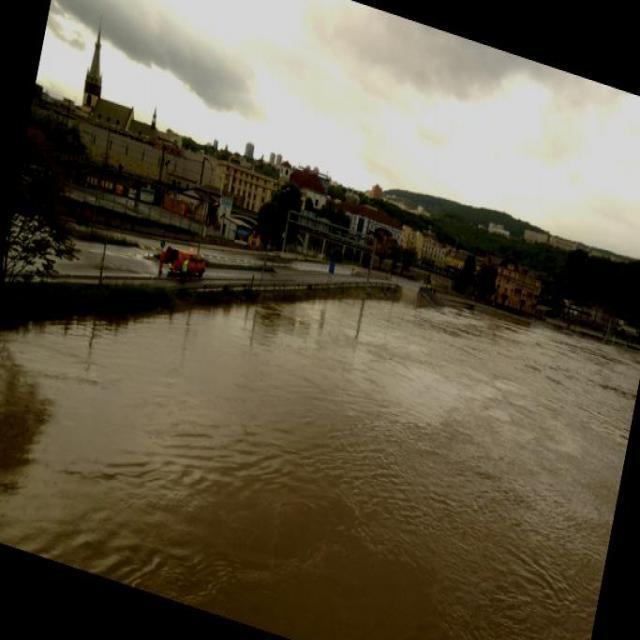flood: (0, 153, 639, 639)
